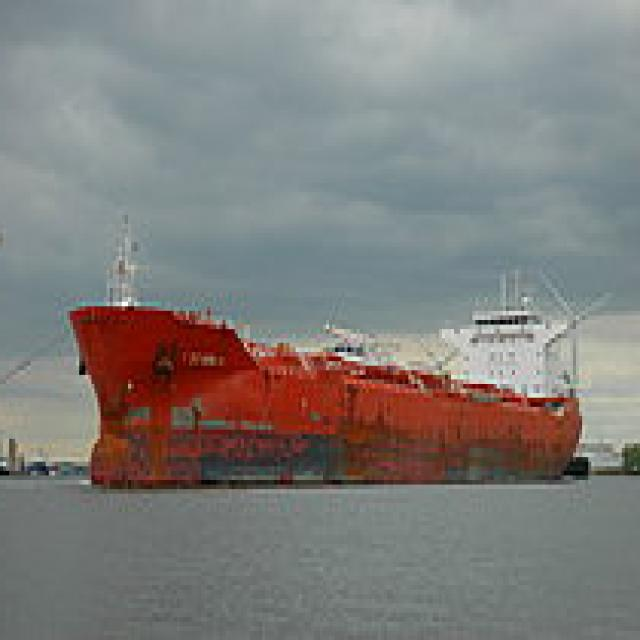Tanker: (73, 293, 585, 480)
